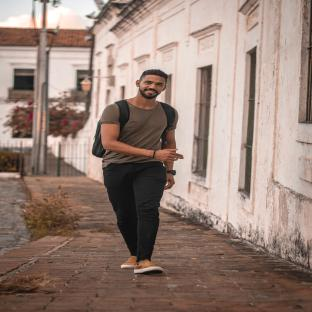Human: (100, 69, 183, 273)
